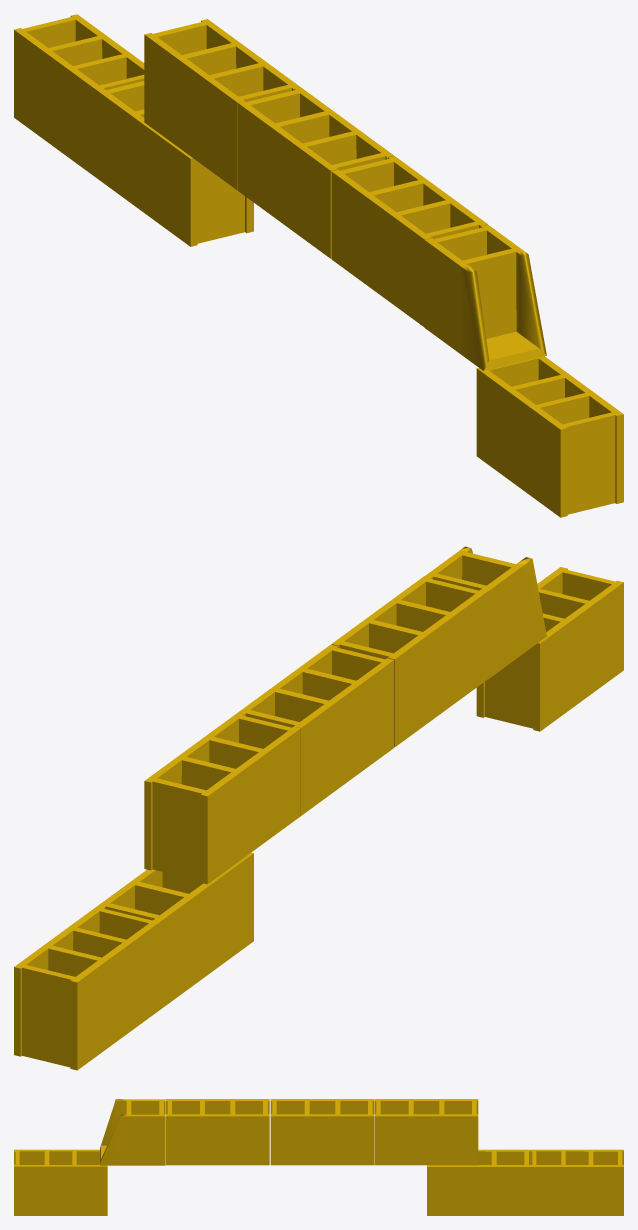
Rendered from Wall_Cinderblock_02_Lod0.fbx.
3 renders of one model, top to bottom at view 1: azimuth 30°, elevation 25°; view 2: azimuth 150°, elevation 25°; view 3: azimuth 270°, elevation 25°, orthographic. The views are drawn at different scales.
Visible parts, largest first — view 1: Wall_Cinderblock_02_Lod0; view 2: Wall_Cinderblock_02_Lod0; view 3: Wall_Cinderblock_02_Lod0.
Boxes of the visible parts, box(x1,y1,x2,y2) form: Wall_Cinderblock_02_Lod0: box(14, 14, 623, 517); Wall_Cinderblock_02_Lod0: box(14, 546, 623, 1070); Wall_Cinderblock_02_Lod0: box(14, 1099, 623, 1215).
Bounding box in the file's own units: 20.09 × 54.18 × 300.
